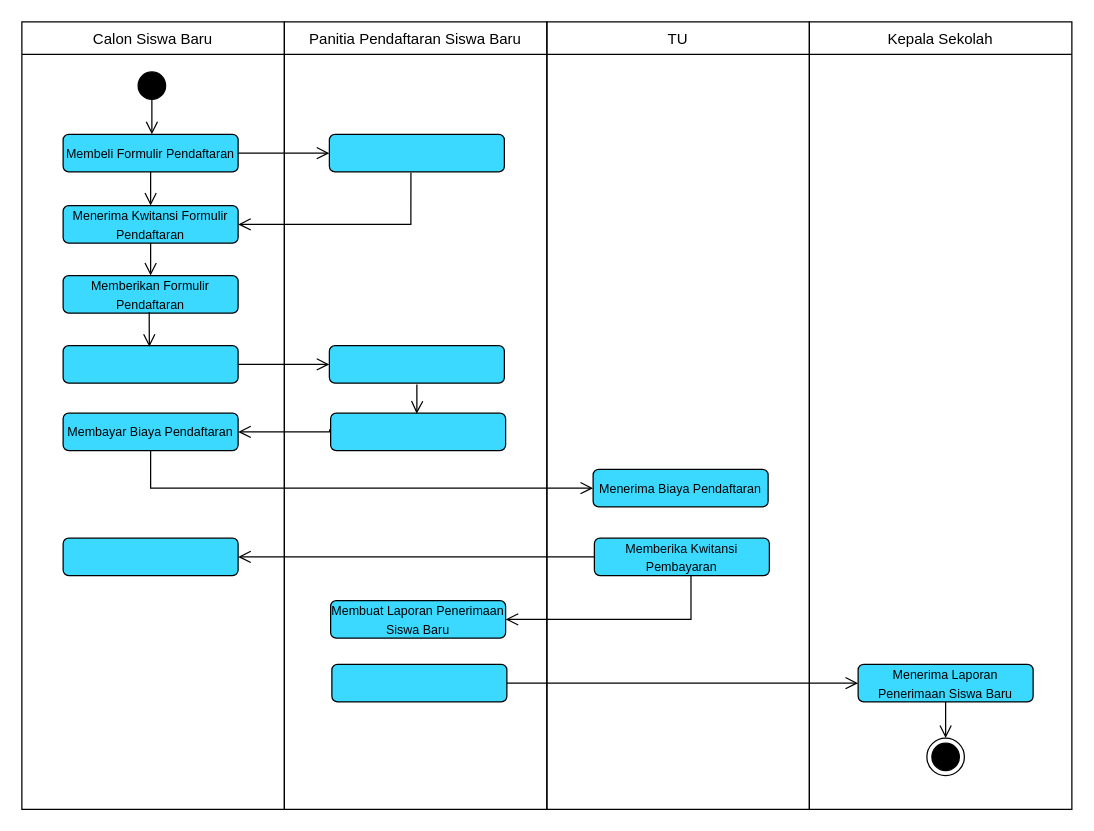
The diagram is 1094 pixels wide and 831 high, and some of its shapes have lost their labels. The centre of each missing label's shape, as x and y in pixels:
"Memberikan Laporan Penerimaan Siswa Baru" goes at point 419,682.
"Memberikan Rincian Biaya" goes at point 417,431.
"Menerima Formulir yang telah di isi" goes at point 416,363.
"Menerima Kwitansi Pembayaran" goes at point 150,556.
"Mengisi Formulir Pendaftaran" goes at point 150,363.
"Menyiapkan Formulir" goes at point 416,152.
